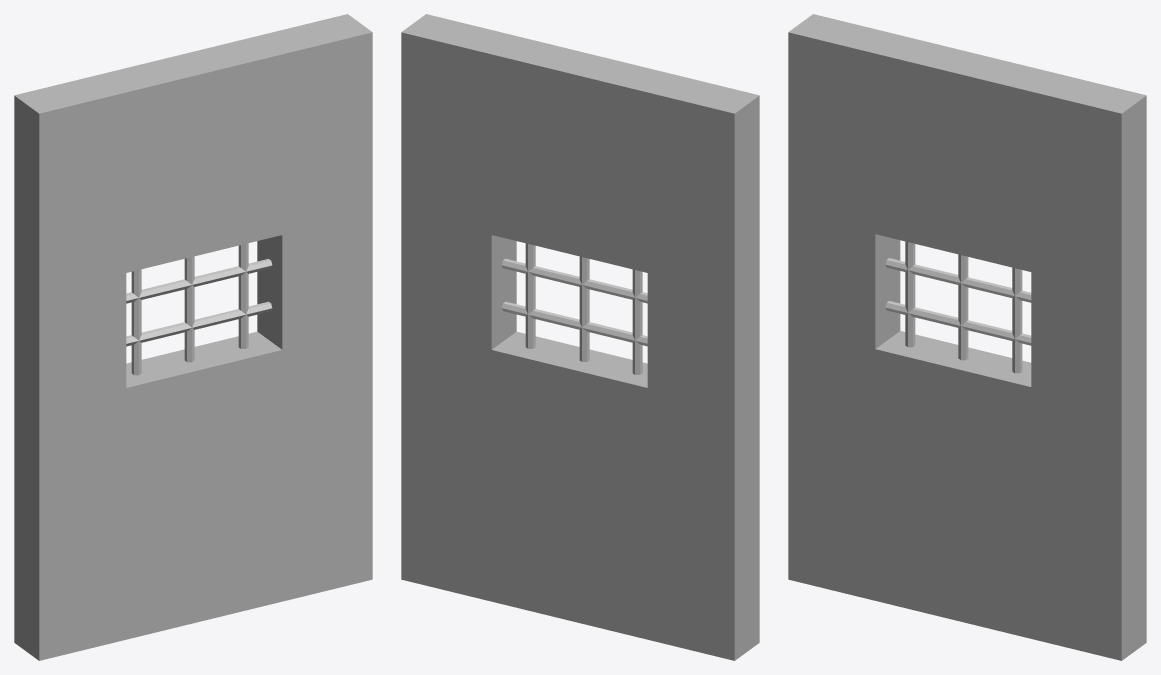
Rendered from P_Jail_Wall_Window.fbx.
3 views of the same model, side by side, from view 1: azimuth 30°, elevation 25°; view 2: azimuth 150°, elevation 25°; view 3: azimuth 330°, elevation 25° (orthographic).
Parts seen in each view (by area): view 1: P_Jail_Wall_Window; view 2: P_Jail_Wall_Window; view 3: P_Jail_Wall_Window.
Boxes of the visible parts, x1,y1,x2,y2 form: P_Jail_Wall_Window: [14, 14, 372, 660]; P_Jail_Wall_Window: [401, 14, 759, 660]; P_Jail_Wall_Window: [788, 14, 1146, 660].
Size of the model in its own units: 1000 by 130 by 1568.
